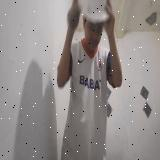Helmet: (78, 0, 109, 22)
